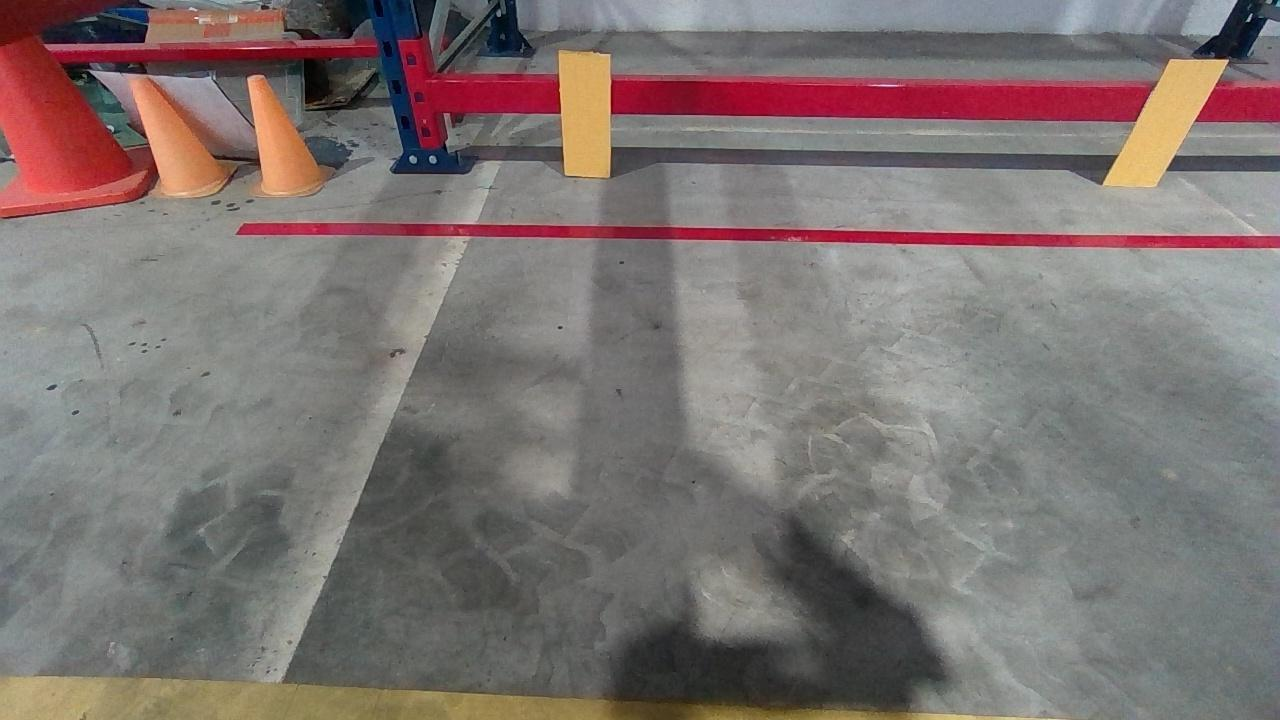h_rack: (440, 79, 1277, 122)
orange_strip: (1100, 54, 1222, 186), (555, 51, 611, 176)
red_line: (234, 218, 1279, 249)
yellow_line: (4, 678, 1078, 720)
